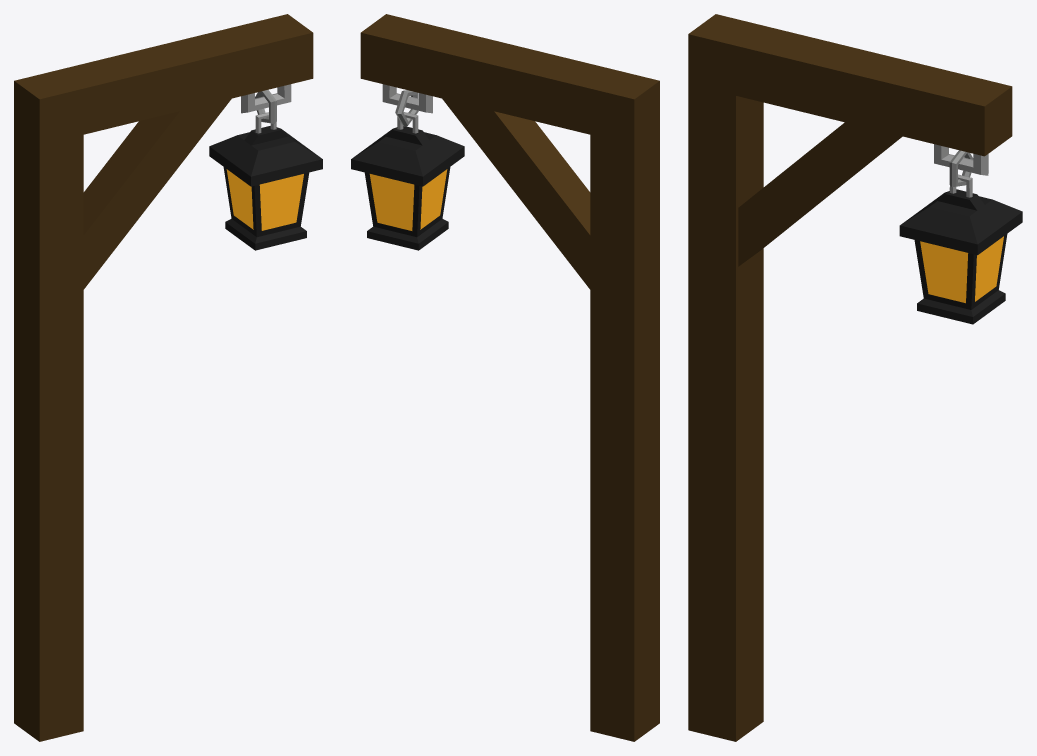
Rendered from LampPost.fbx.
3 renders of one model, left to right at view 1: azimuth 30°, elevation 25°; view 2: azimuth 150°, elevation 25°; view 3: azimuth 330°, elevation 25°, orthographic. The views are drawn at different scales.
Parts seen in each view (by area): view 1: Фонарный столб; view 2: Фонарный столб; view 3: Фонарный столб.
Part boxes in pixels (bbox=[...]): Фонарный столб: bbox=[14, 14, 322, 741]; Фонарный столб: bbox=[351, 14, 659, 741]; Фонарный столб: bbox=[688, 14, 1022, 741].
Bounding box in the file's own units: 1.25 × 2.79 × 0.3266.
